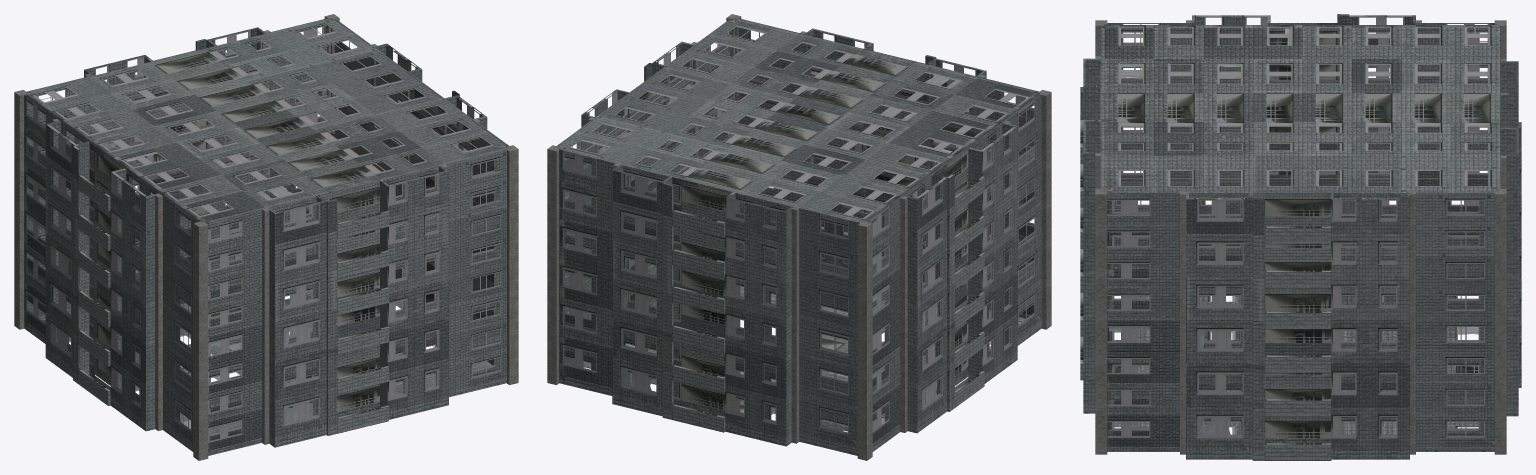
File: BagSS07mid_300.fbx
3 renders of one model, left to right at view 1: azimuth 30°, elevation 25°; view 2: azimuth 150°, elevation 25°; view 3: azimuth 270°, elevation 25°, orthographic. The views are drawn at different scales.
Visible parts, largest first — view 1: Box02, midMain300, midCeilingsa300; view 2: midMain300, Box02, midCeilingsa300; view 3: Box02, midMain300, midCeilingsa300.
Boxes of the visible parts, x1,y1,x2,y2 form: Box02: [26, 19, 508, 453]; midMain300: [24, 18, 507, 455]; midCeilingsa300: [14, 14, 518, 460]; midMain300: [558, 18, 1041, 455]; Box02: [557, 19, 1039, 431]; midCeilingsa300: [547, 14, 1051, 460]; Box02: [1100, 25, 1500, 449]; midMain300: [1080, 14, 1521, 460]; midCeilingsa300: [1095, 20, 1506, 454].
Size of the model in its own units: 35.04 by 22.8 by 35.04.
